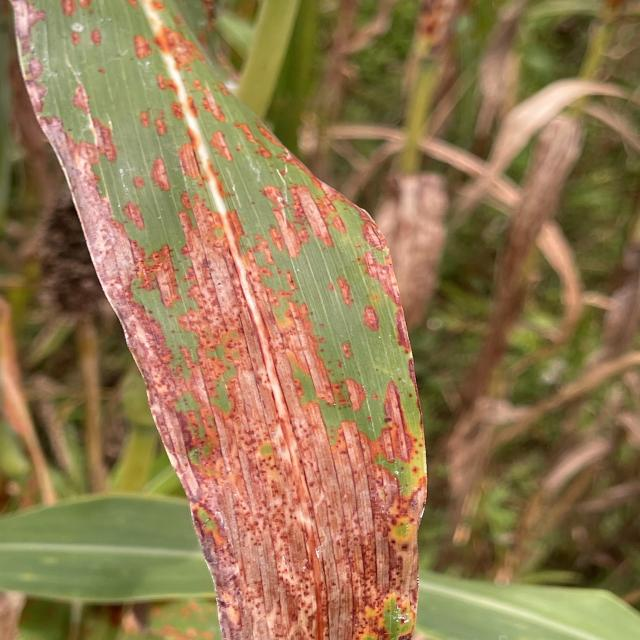millet_rust: (9, 2, 431, 640)
